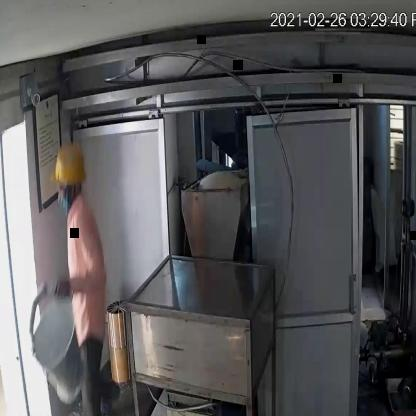helmet: (45, 146, 91, 192)
